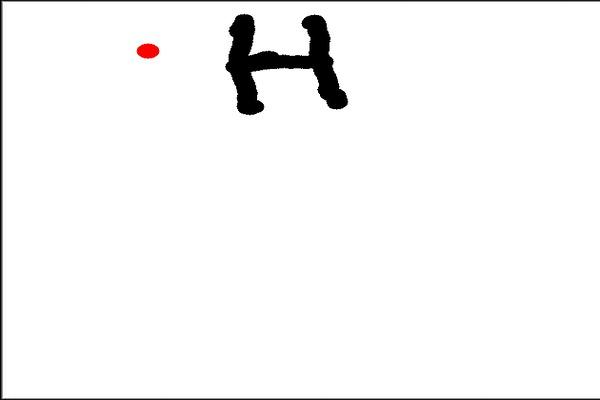H: (222, 6, 355, 123)
